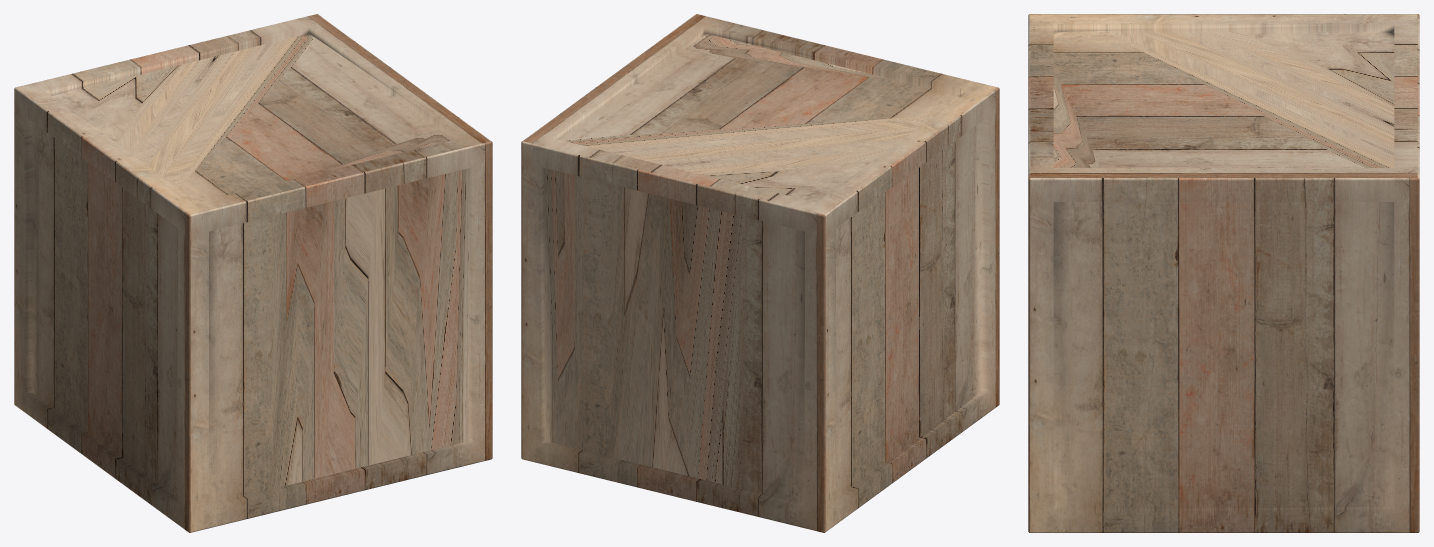
The model's file is WoodBox.obj.
The picture shows the model from 3 angles, left to right: view 1: azimuth 30°, elevation 25°; view 2: azimuth 150°, elevation 25°; view 3: azimuth 270°, elevation 25°; orthographic projection. The views are drawn at different scales.
Visible parts, largest first — view 1: WFBXASC195FBXASC188rfel; view 2: WFBXASC195FBXASC188rfel; view 3: WFBXASC195FBXASC188rfel.
Part boxes in pixels (x1,y1,x2,y2): WFBXASC195FBXASC188rfel: (14,14,492,532); WFBXASC195FBXASC188rfel: (521,14,999,532); WFBXASC195FBXASC188rfel: (1028,14,1419,532).
Bounding box in the file's own units: 17.66 × 17.66 × 17.66.
